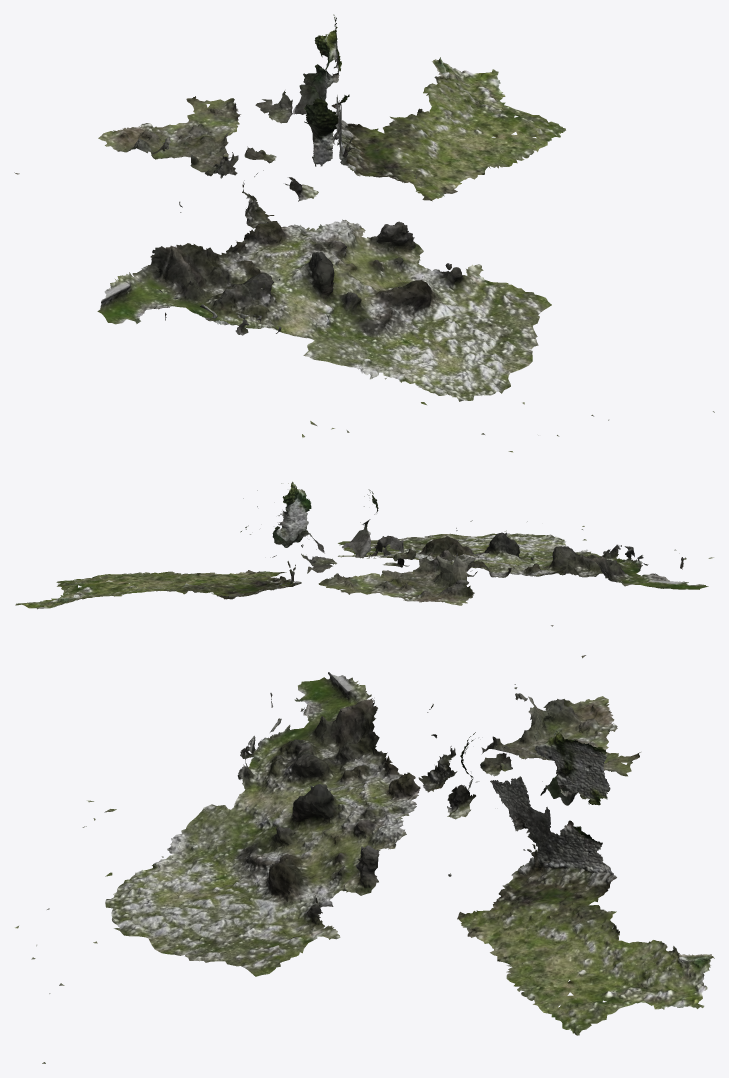
3 views of the same model, one above another, from view 1: azimuth 30°, elevation 25°; view 2: azimuth 150°, elevation 25°; view 3: azimuth 270°, elevation 25° (orthographic). The views are drawn at different scales.
Bounding box in the file's own units: 39.58 × 15.4 × 38.15.
1 material, 1 textured.
